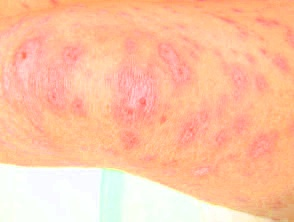SJS-TEN: (0, 6, 294, 184)
